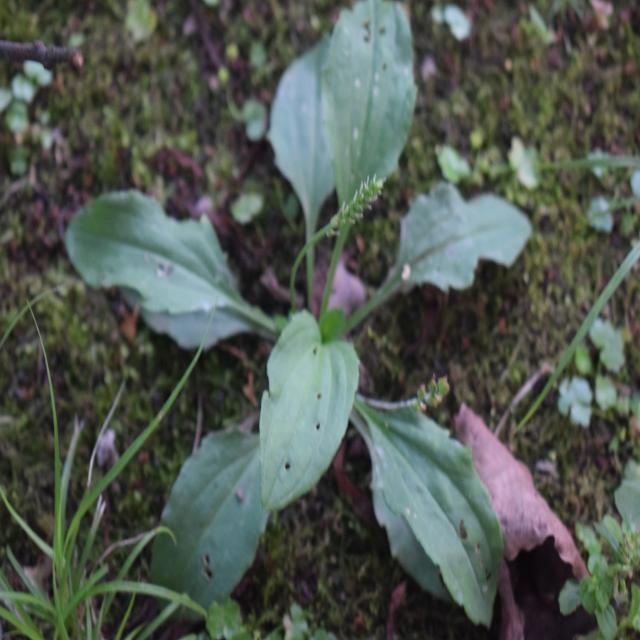plantain: (105, 48, 508, 599)
